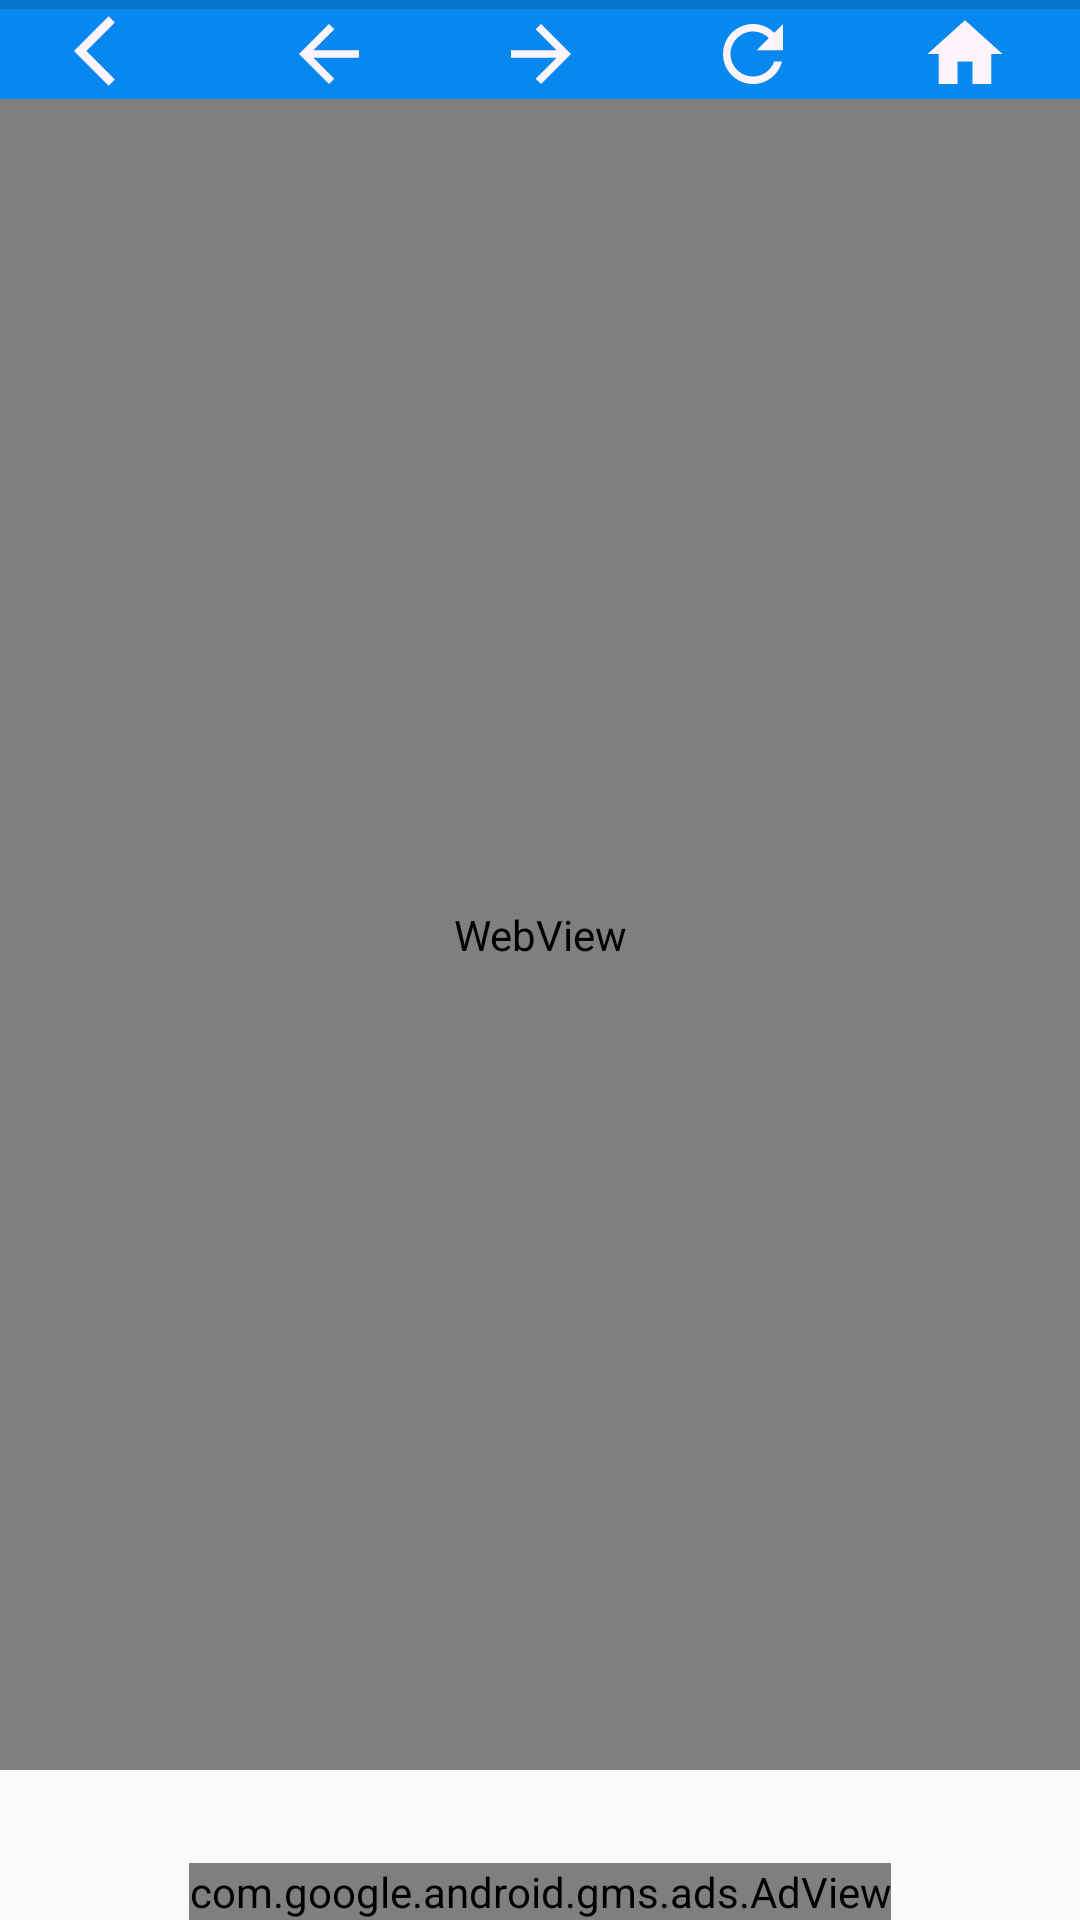

Icons on this 1080*1920 Android screen, each with the point to tap as (x,y):
arrow back: (94,51), (329,54)
arrow forward: (541,54)
home: (965,52)
refresh: (753,54)
